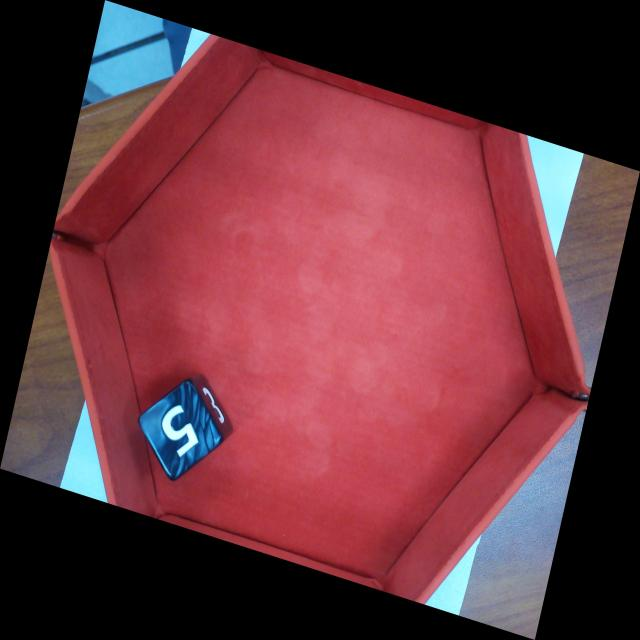dice: (132, 373, 227, 486)
